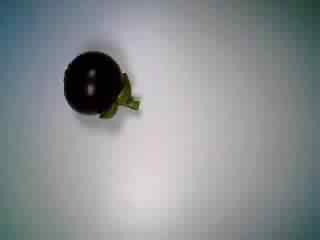mangosteen: (59, 44, 140, 124)
